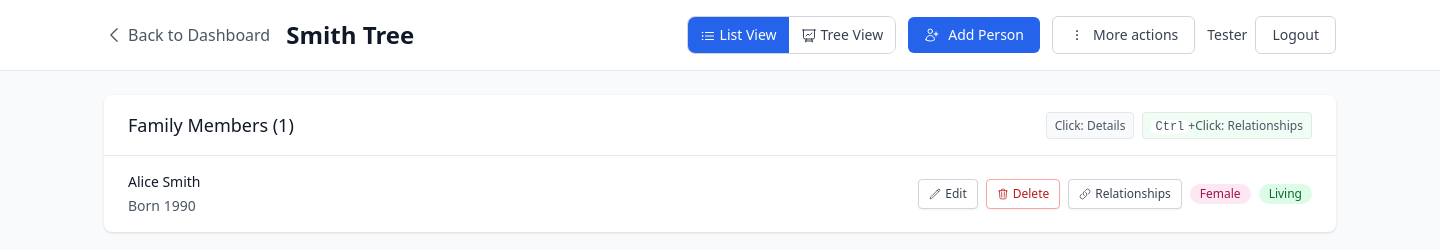
Test case: TreeViewPage › shows More actions menu and reveals secondary actions
Step 1. Click the button "More actions" → {"x": 1124, "y": 35}, box [1052,16,1195,54]
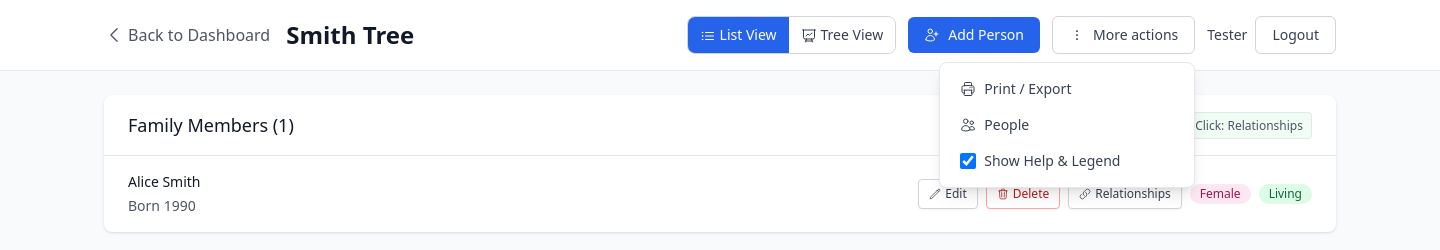
Expected: the menu item "Print / Export" is shown, [948,71,1186,107]
Expected: the checkbox named "show help and legend" is shown, [960,153,976,169]
